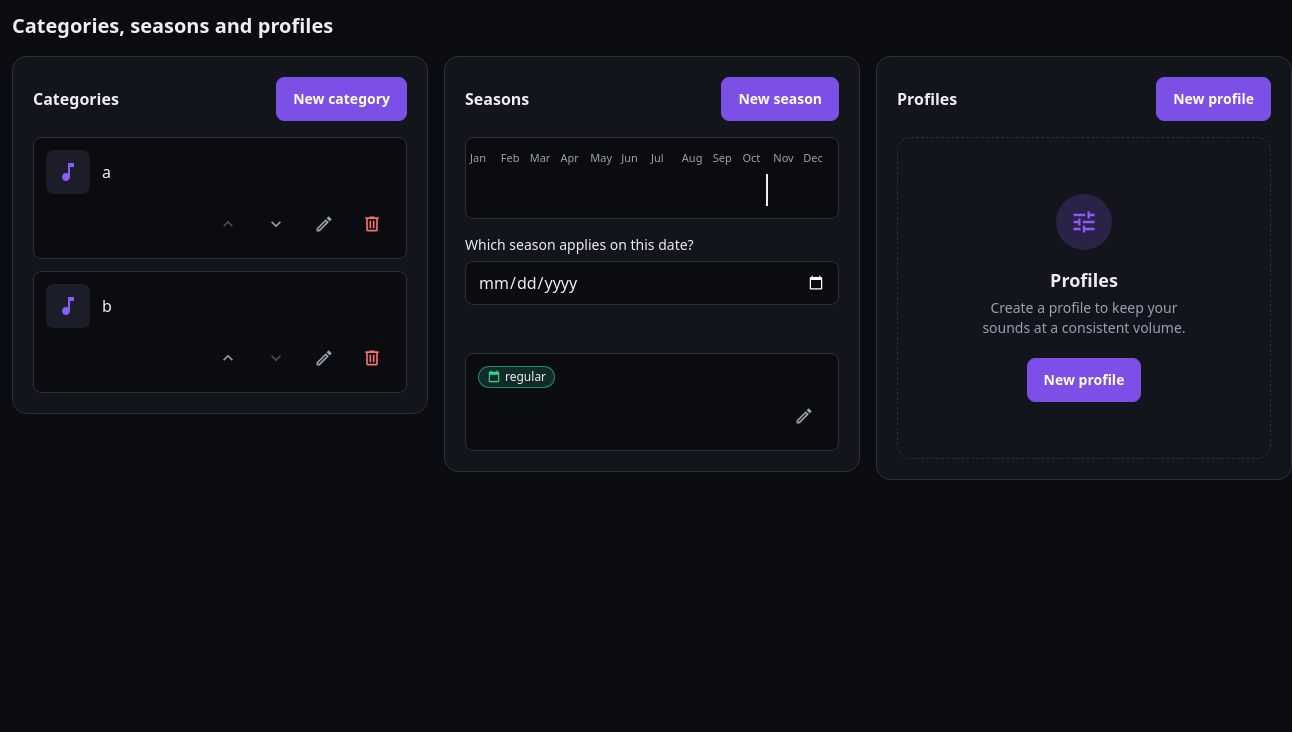
Test case: confirms deletion and displays the server's 409 detail
This screenshot has width=1292, height=732.
Click the button named "Delete a". click: coordinates (372, 224)
box: [350,202,394,246]
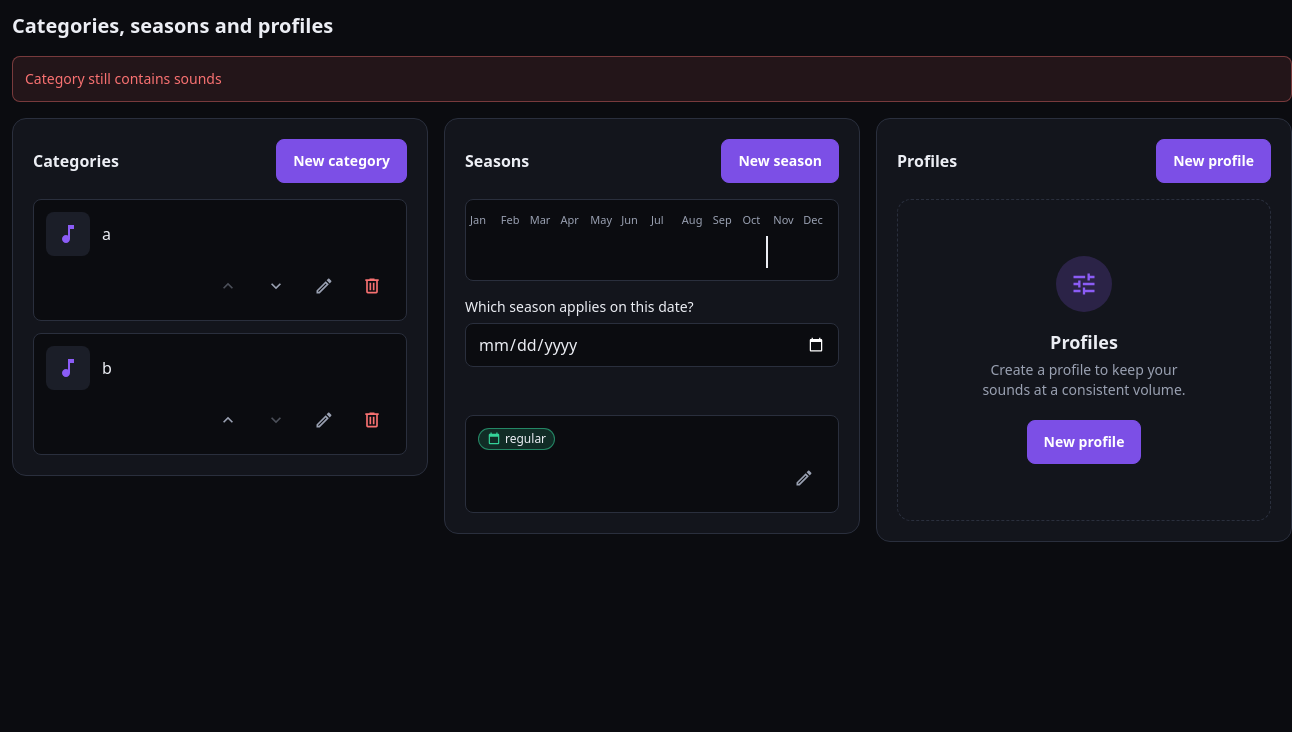
Expected: the button named "Delete a" is enabled, [350,264,394,308]
Result: the text with test id "organize-error" reads "Category still contains sounds" at [25,69,222,88]
